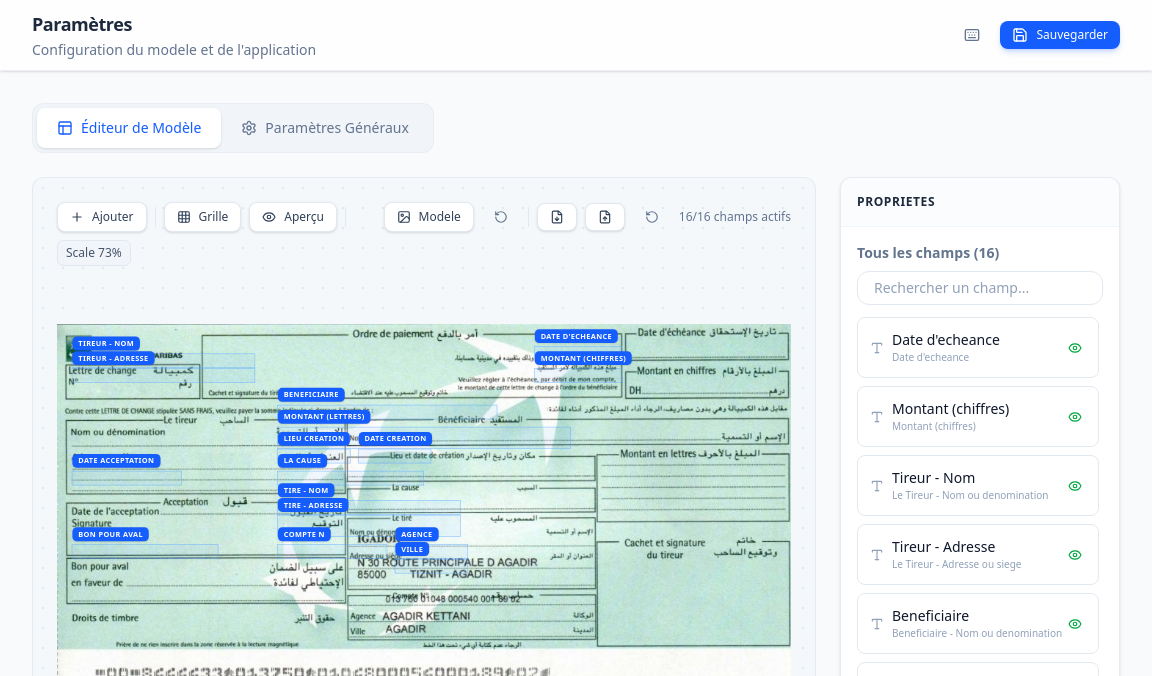
Test case: SettingsPage › onglet paramètres généraux › affiche les options d'impression et PDF
Click the button "Paramètres Généraux": point(325, 128) left=221, top=108, right=429, bottom=148
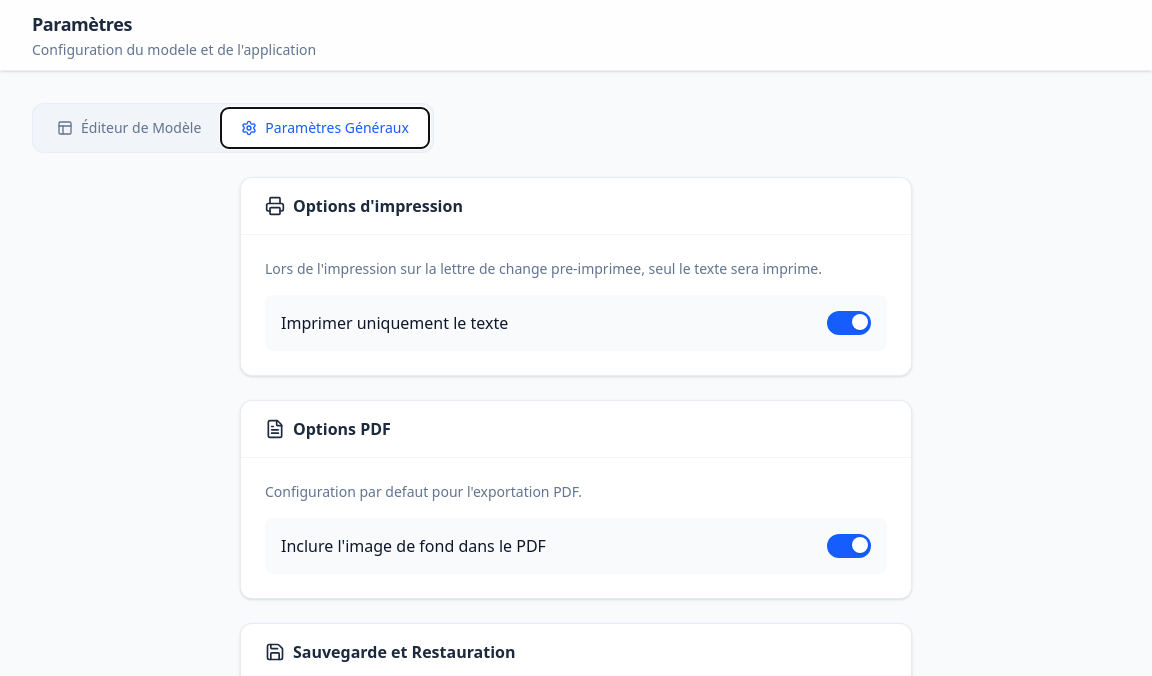
Result: the text "Imprimer uniquement le texte" is shown at left=281, top=311, right=508, bottom=335
Result: the text "Inclure l'image de fond dans le PDF" is shown at left=281, top=534, right=546, bottom=558
